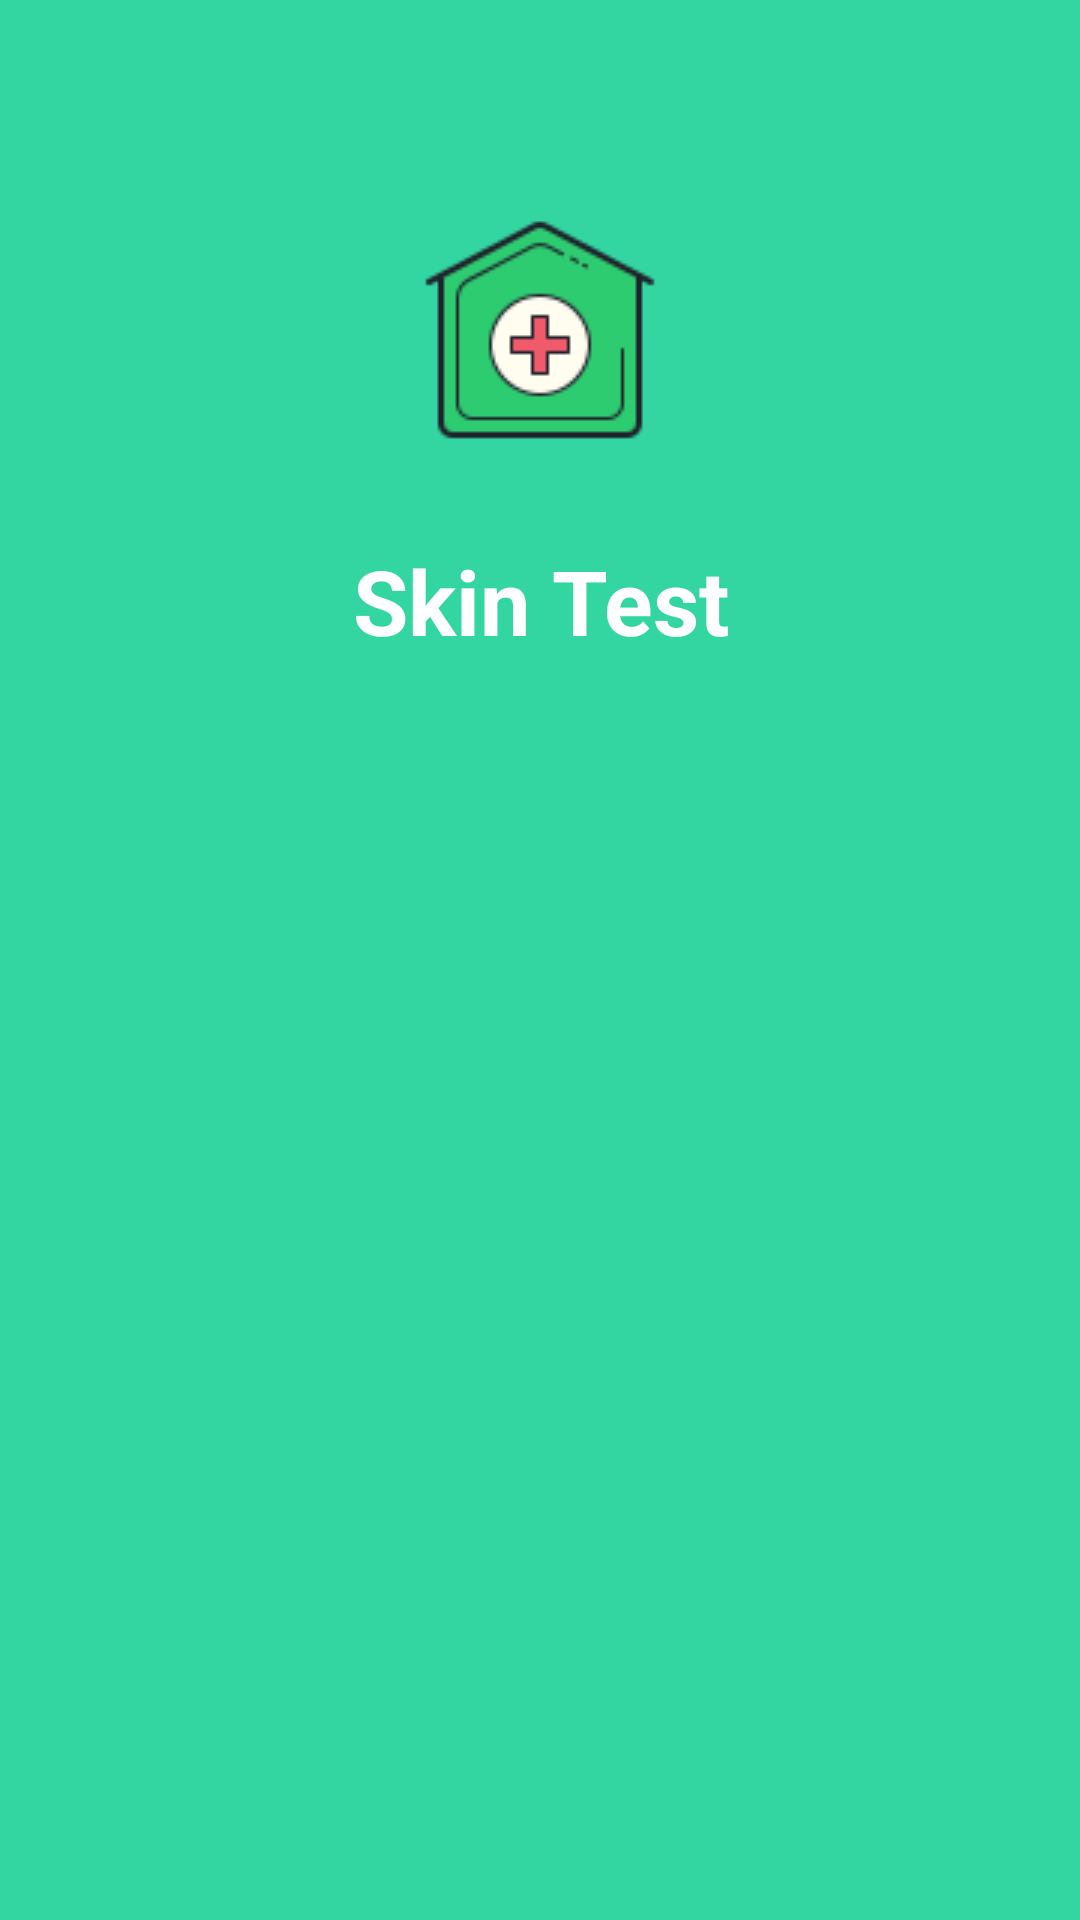

Where icons sit on this 1080px×1920px app screen, as {"x1": x1, "y1": y1, "x2": x2, "y2": y2}:
hospital: {"x1": 425, "y1": 221, "x2": 655, "y2": 439}
